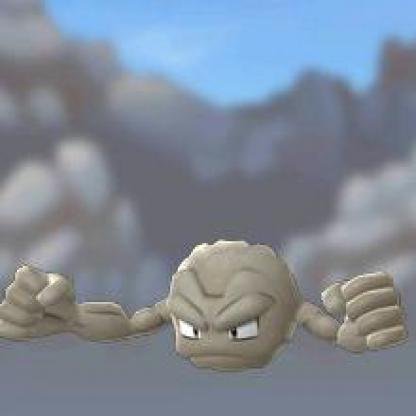Geodude: (1, 1, 415, 415)
